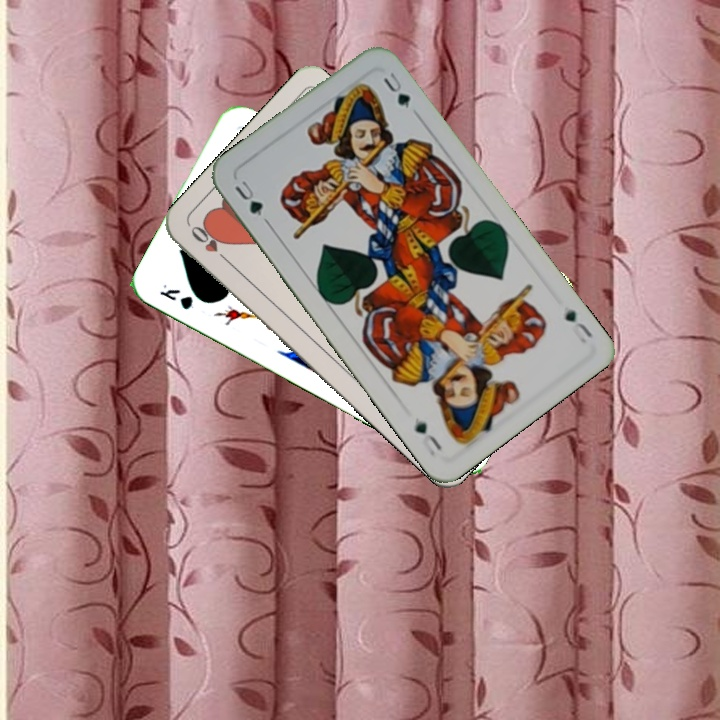GK: (155, 280, 197, 313)
GU: (230, 176, 266, 219), (560, 304, 595, 347)
HO: (186, 221, 234, 267)
